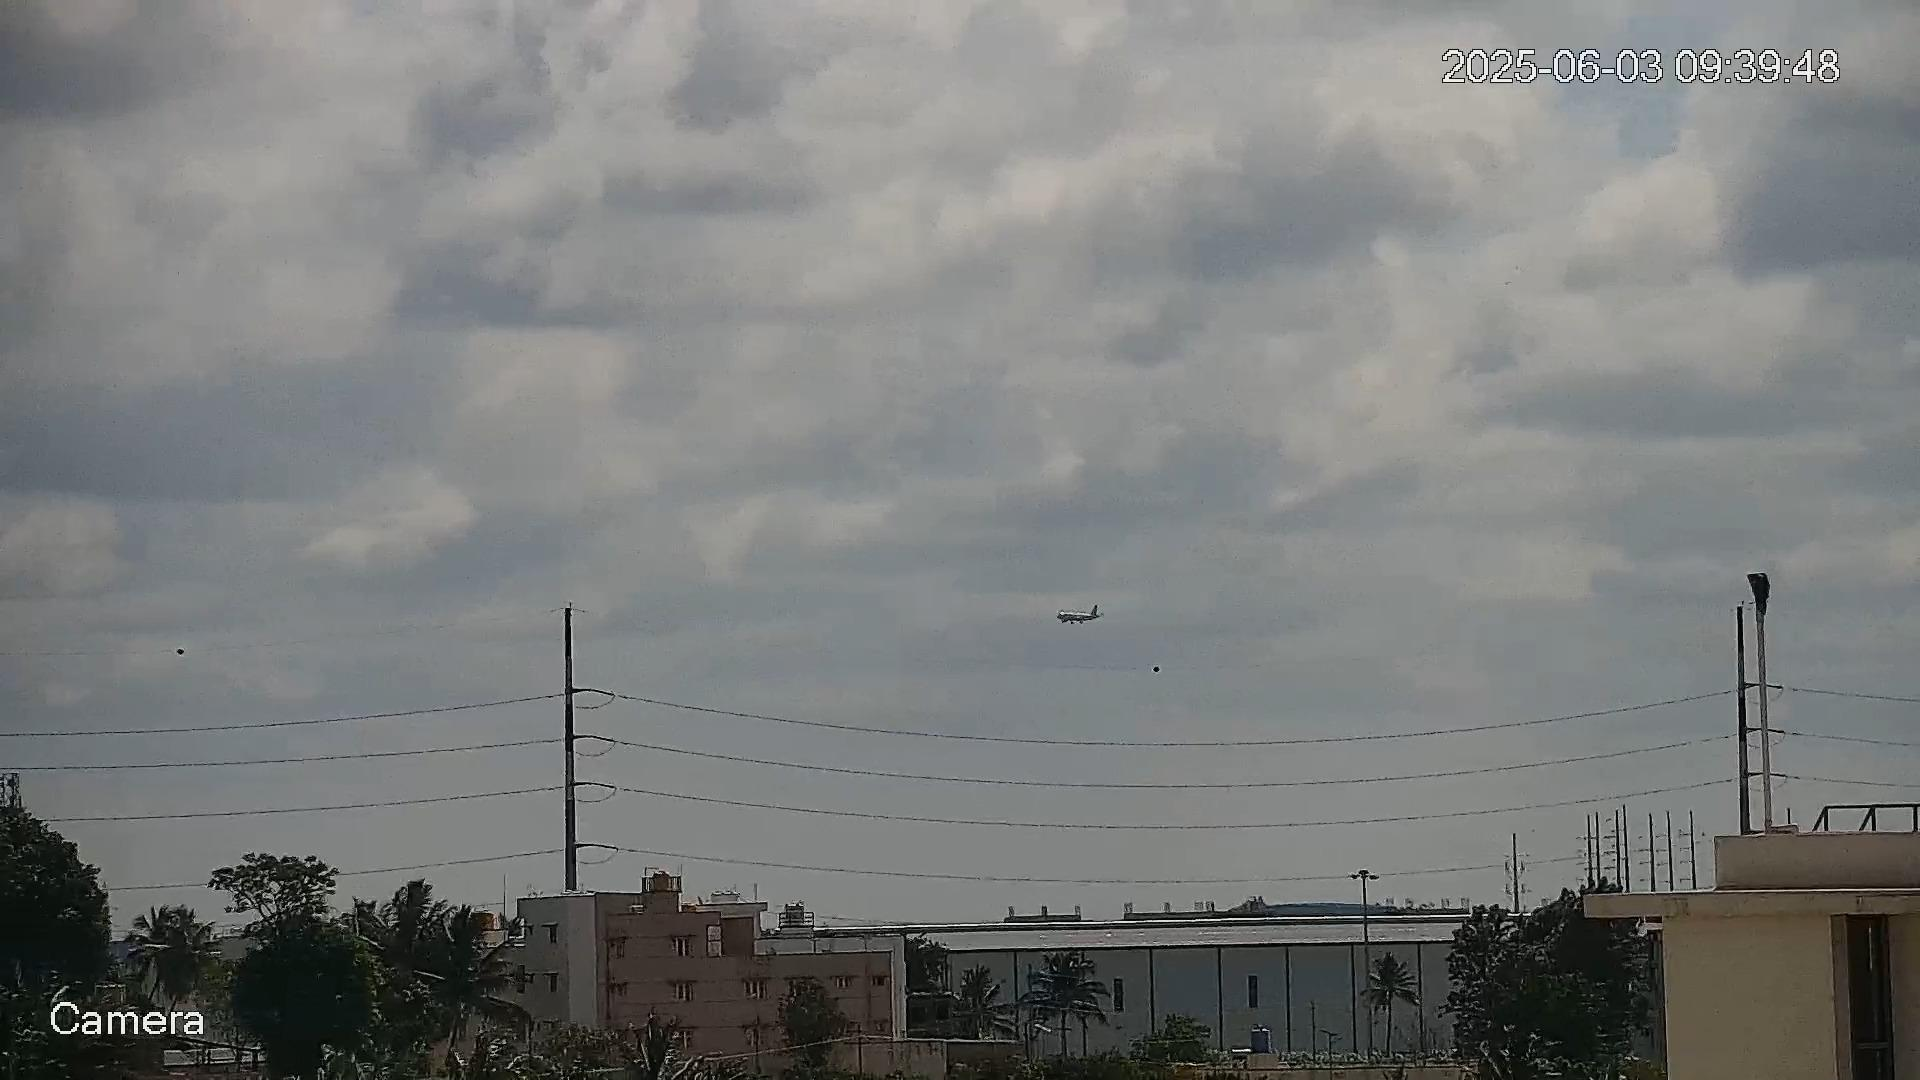Aircraft: (1056, 605, 1102, 625)
